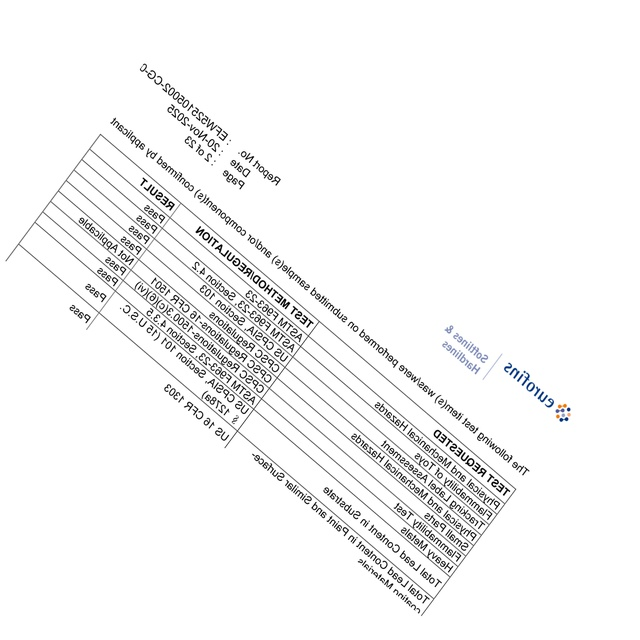eurofins: (498, 357, 578, 426)
